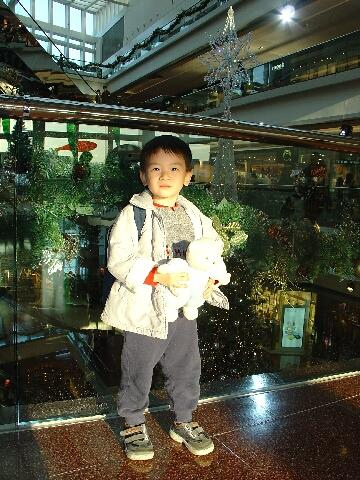person: (101, 134, 231, 463)
